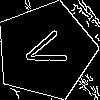V: (21, 26, 77, 74)
